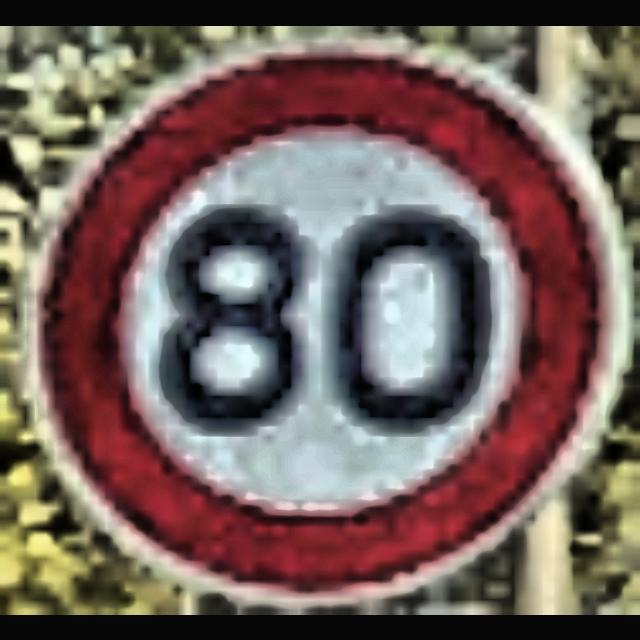speed_80: (1, 26, 630, 604)
